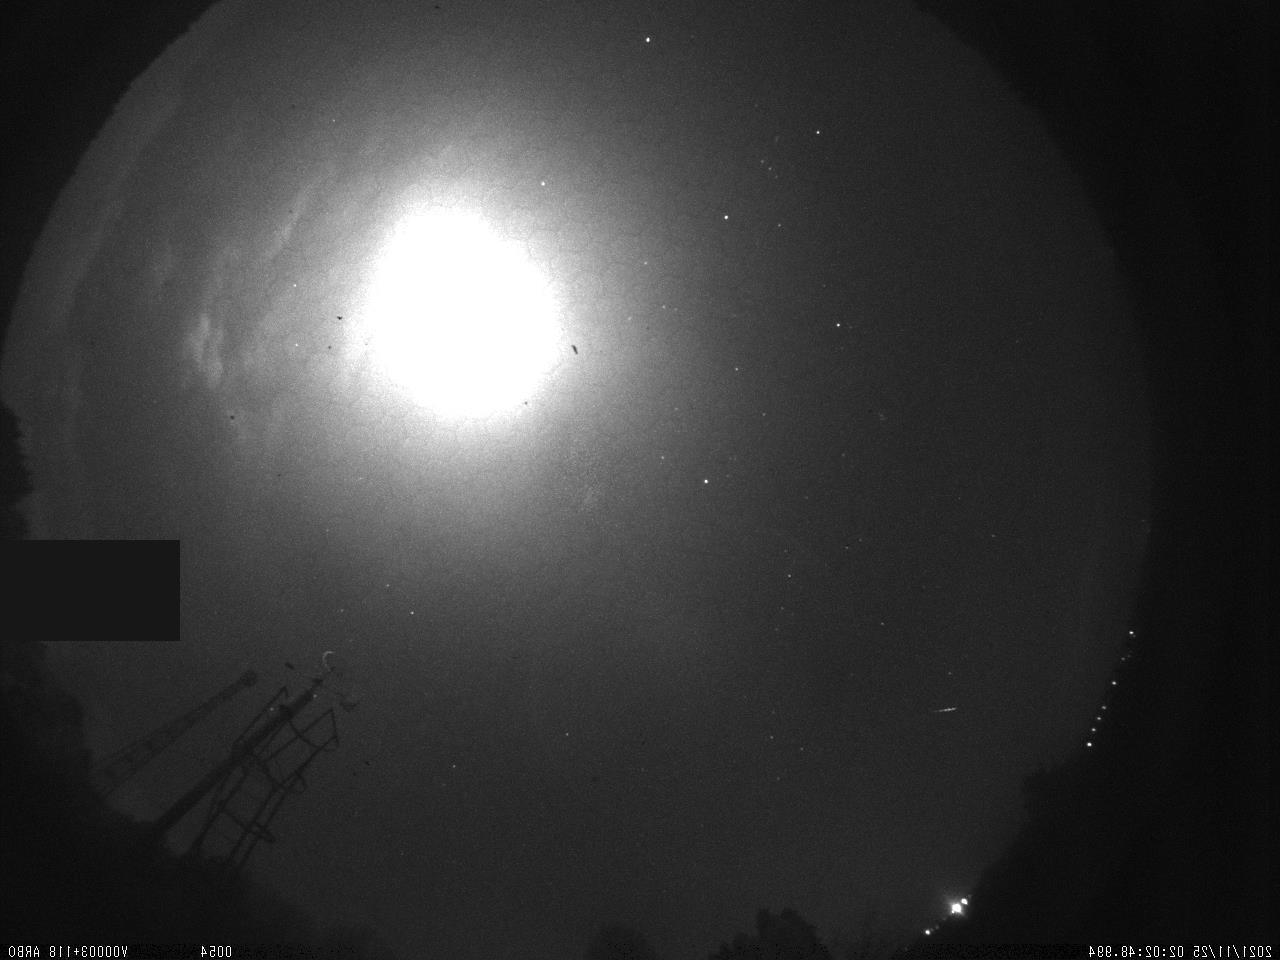meteor: (923, 695, 967, 723)
